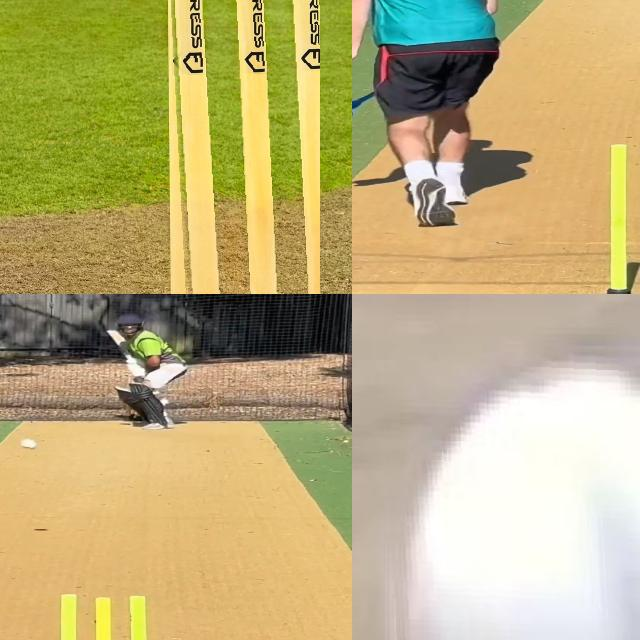Cricket ball: (380, 338, 640, 640), (18, 437, 40, 450)
Stumps: (164, 0, 320, 294), (42, 592, 168, 640)
